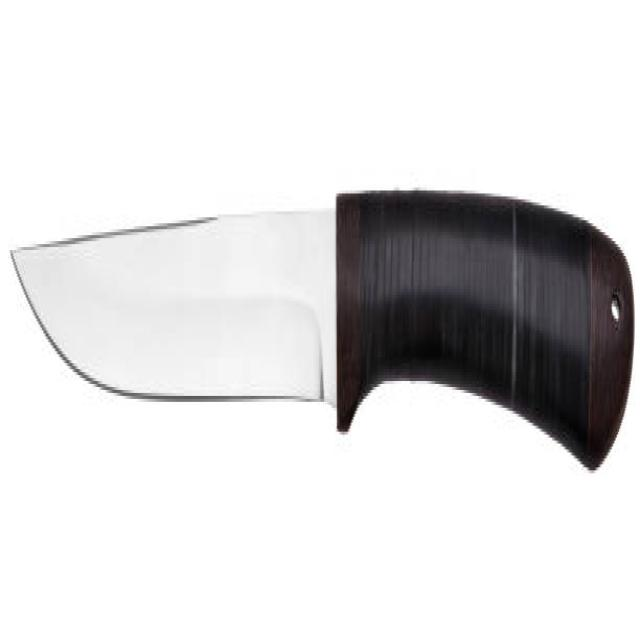knife: (6, 199, 637, 475)
